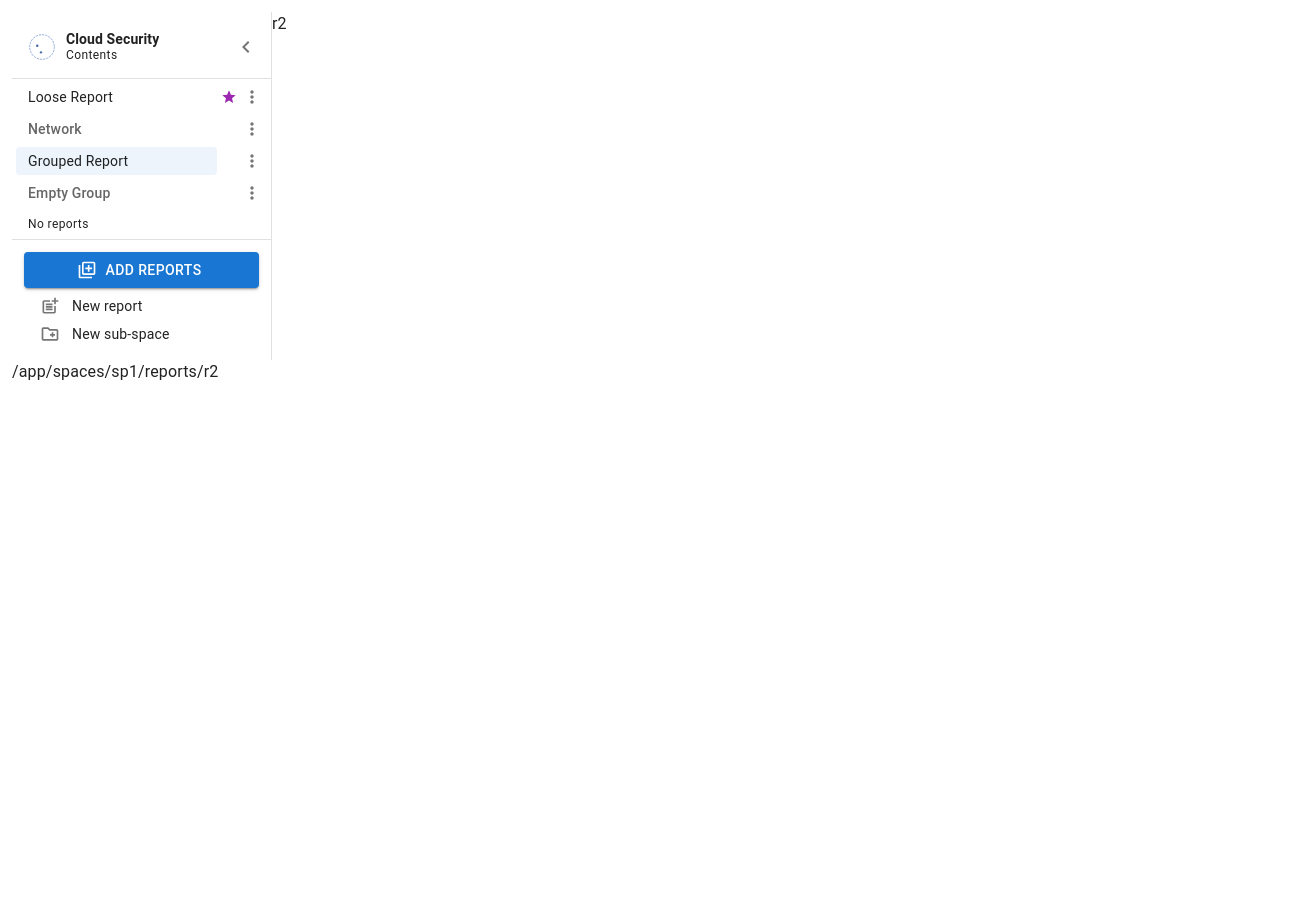
Test: SpaceDetail › navigates to the contents page from the panel header
What coordinates should you click on to do the following:
click the button "Cloud Security Contents"
I would click on:
 (94, 47)
Its box is x1=28 y1=31 x2=159 y2=62.
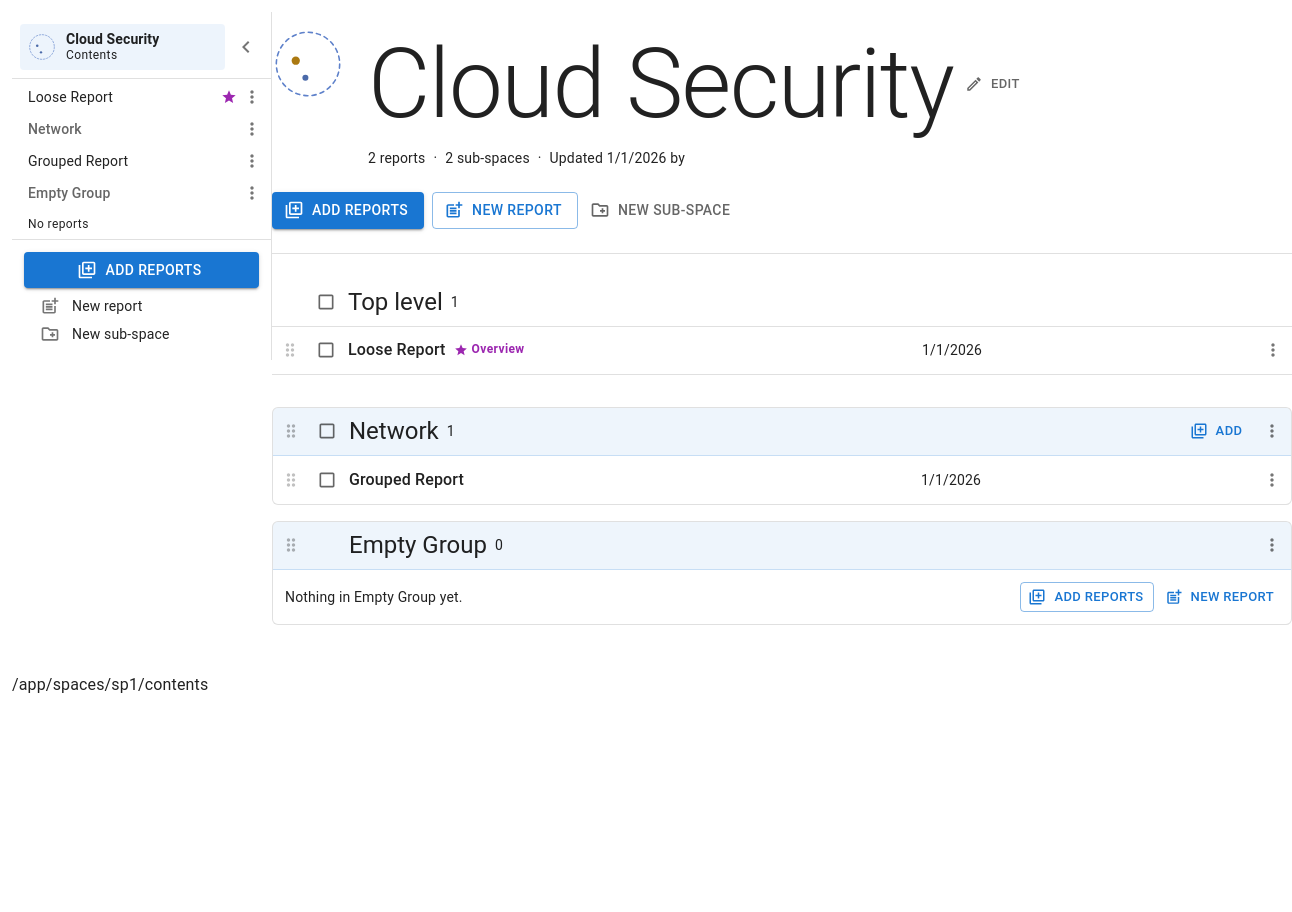
expect the text with test id "location" reads "/app/spaces/sp1/contents": met, box x1=12 y1=675 x2=208 y2=694
